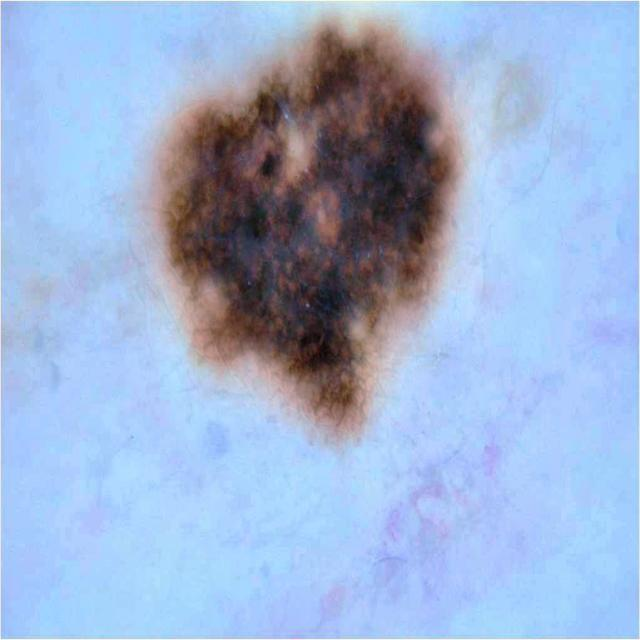Melanocytic-Nevi-NV-: (160, 23, 456, 431)
